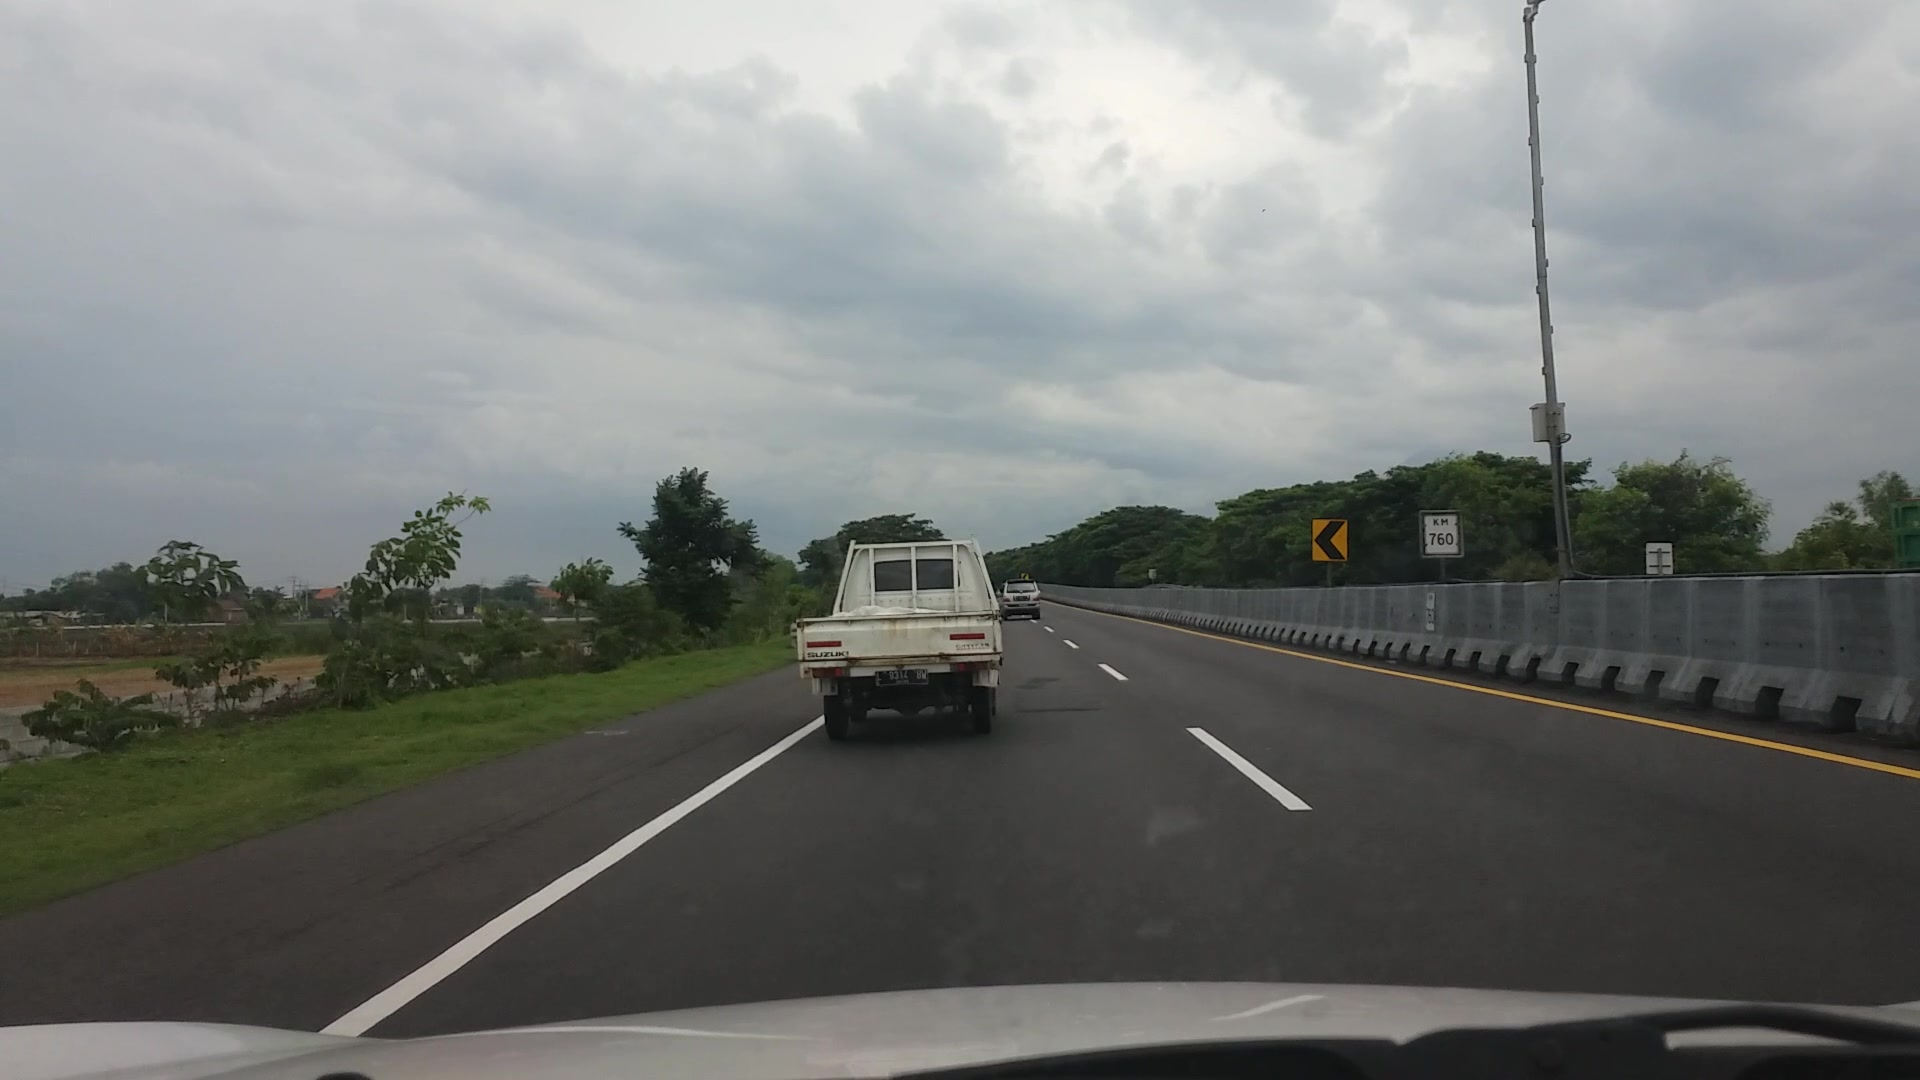plate_positive: (874, 669, 927, 687)
